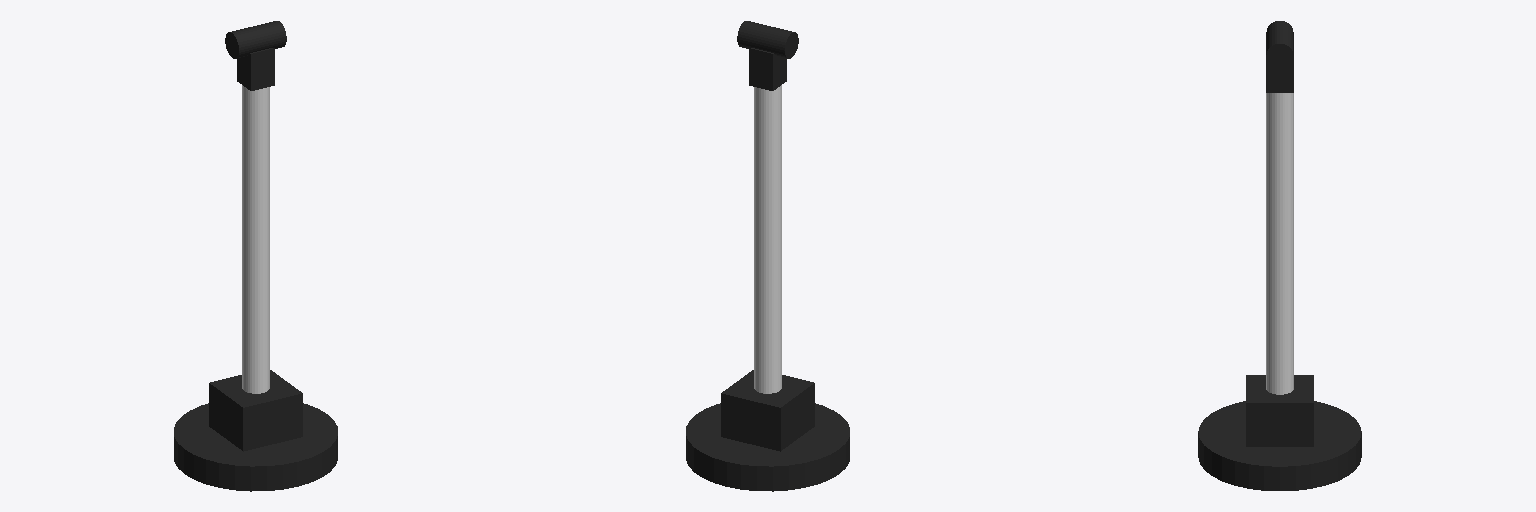
URDF robot description (kinect):
<?xml version="1.0" ?>
<!-- =================================================================================== -->
<!-- |    This document was autogenerated by xacro from human.xacro                    | -->
<!-- |    EDITING THIS FILE BY HAND IS NOT RECOMMENDED                                 | -->
<!-- =================================================================================== -->
<robot name="kinect" xmlns:xacro="http://www.ros.org/wiki/xacro">

  <material name="metal">
    <color rgba="0.9 0.9 0.9 1"/>
  </material>

  <material name="black_plastic">
    <color rgba="0.2 0.2 0.2 1"/>
  </material>

  <!-- Links: inertial,visual,collision -->
  <link name="base_link">
    <inertial>
      <origin nrpy="0 0 0" xyz="0 0 0"/>
      <mass value="5"/>
      <inertia ixx="5" ixy="0" ixz="0" iyy="5" iyz="0" izz="5"/>
    </inertial>

    <visual>
      <origin xyz="0 0 0.05"/>
      <geometry>
        <cylinder radius="0.3" length=".1"/>
      </geometry>
      <material name="black_plastic"/>
    </visual>
    <collision>
      <!-- origin is relative -->
      <origin xyz="0 0 0.05"/>
      <geometry>
        <cylinder radius="0.3" length=".1"/>
      </geometry>
    </collision>
  </link>

  <link name="base_box">
    <inertial>
      <origin nrpy="0 0 0" xyz="0 0 0"/>
      <mass value="5"/>
      <inertia ixx="5" ixy="0" ixz="0" iyy="5" iyz="0" izz="5"/>
    </inertial>

    <visual>
    	<origin xyz="0 0 0.05"/>
      <geometry>
        <box size="0.25 0.25 0.25"/>
      </geometry>
      <material name="black_plastic"/>
    </visual>
    <collision>
      <!-- origin is relative -->
      <origin xyz="0 0 0.05"/>
      <geometry>
        <box size="0.25 0.25 0.25"/>
      </geometry>
    </collision>
  </link>


  <joint name="base_base_joint" type="fixed">
    <origin rpy="0 0 0" xyz="0 0 0.1"/>
    <child link="base_box"/>
    <parent link="base_link"/>
  </joint>

  <link name="bot_rod">
    <inertial>
      <origin nrpy="0 0 0" xyz="0 0 0"/>
      <mass value="5"/>
      <inertia ixx="5" ixy="0" ixz="0" iyy="5" iyz="0" izz="5"/>
    </inertial>

    <visual>
      <geometry>
        <cylinder radius="0.05" length="1"/>
      </geometry>
      <material name="metal"/>
    </visual>
    <collision>
      <!-- origin is relative -->
      <origin xyz="0 0 0"/>
      <geometry>
        <cylinder radius="0.05" length="1"/>
      </geometry>
    </collision>
  </link>


  <joint name="base_rod" type="fixed">
    <origin rpy="0 0 0" xyz="0 0 0.62"/>
    <child link="bot_rod"/>
    <parent link="base_box"/>
  </joint>

  <link name="top_rod">
    <inertial>
      <origin nrpy="0 0 0" xyz="0 0 0"/>
      <mass value="5"/>
      <inertia ixx="5" ixy="0" ixz="0" iyy="5" iyz="0" izz="5"/>
    </inertial>

    <visual>
      <geometry>
        <cylinder radius="0.05" length="1"/>
      </geometry>
      <material name="metal"/>
    </visual>
    <collision>
      <!-- origin is relative -->
      <origin xyz="0 0 0"/>
      <geometry>
        <cylinder radius="0.05" length="1"/>
      </geometry>
    </collision>
  </link>

  <joint name="rod" type="prismatic">
    <origin rpy="0 0 0" xyz="0 0 0.3"/>
    <axis xyz="0 0 1"/>
    <limit effort="1000.0" lower="-0.7" upper="0.7" velocity="0.5"/>
    <child link="top_rod"/>
    <parent link="bot_rod"/>
  </joint>


  <link name="top_box">
    <inertial>
      <origin nrpy="0 0 0" xyz="0 0 0"/>
      <mass value="5"/>
      <inertia ixx="5" ixy="0" ixz="0" iyy="5" iyz="0" izz="5"/>
    </inertial>

    <visual>
      <geometry>
        <box size="0.10 0.10 0.15"/>
      </geometry>
      <material name="black_plastic"/>
    </visual>
    <collision>
      <!-- origin is relative -->
      <origin xyz="0 0 0"/>
      <geometry>
        <box size="0.10 0.10 0.15"/>
      </geometry>
    </collision>
  </link>


  <joint name="top_box_rod_joint" type="fixed">
    <origin rpy="0 0 0" xyz="0 0 0.55"/>
    <child link="top_box"/>
    <parent link="top_rod"/>
  </joint>

  <link name="tilt_link">
    <inertial>
      <origin nrpy="0 0 0" xyz="0 0 0"/>
      <mass value="5"/>
      <inertia ixx="5" ixy="0" ixz="0" iyy="5" iyz="0" izz="5"/>
    </inertial>

    <visual>
      <geometry>
        <cylinder radius="0.05" length="0.2"/>
      </geometry>
      <material name="black_plastic"/>
    </visual>
    <collision>
      <!-- origin is relative -->
      <origin xyz="0 0 0"/>
      <geometry>
          <cylinder radius="0.05" length="0.2"/>
      </geometry>
    </collision>
  </link>


  <joint name="tilt_joint" type="revolute">
    <origin rpy="0 1.57079632679 0" xyz="0 0 0.10"/>
    <child link="tilt_link"/>
    <parent link="top_box"/>
    <limit lower="-3.1416" upper="3.1416" effort="10" velocity="3"/>
    <axis xyz="0 0 1"/>
  </joint>


   <joint name="tilt_camera_joint" type="fixed">
    <origin rpy="0 1.57079632679 0" xyz="0 0 0"/>
    <child link="kinect2_link"/>
    <parent link="tilt_link"/>
  </joint>


  <link name="kinect2_link">
    <inertial>
      <origin nrpy="0 0 0" xyz="0 0 0"/>
      <mass value="5"/>
      <inertia ixx="5" ixy="0" ixz="0" iyy="5" iyz="0" izz="5"/>
    </inertial>
  </link>

</robot>

--- Facts derived from the render (not from the file) ---
Views: 3 orthographic renders of the robot side by side, from view 1: azimuth 30°, elevation 25°; view 2: azimuth 150°, elevation 25°; view 3: azimuth 270°, elevation 25°.
Robot: kinect — 7 links, 6 joints (1 revolute, 1 prismatic, 4 fixed); root link base_link; default pose: every joint at zero.
Links seen in each view (by area): view 1: base_link, base_box, top_rod, bot_rod, tilt_link, top_box; view 2: base_link, base_box, top_rod, bot_rod, tilt_link, top_box; view 3: base_link, top_rod, base_box, bot_rod, tilt_link, top_box.
Boxes of the visible links, left/top/right/bottom form: base_link: left=174, top=403, right=337, bottom=491; base_box: left=209, top=370, right=302, bottom=451; top_rod: left=242, top=85, right=269, bottom=332; bot_rod: left=242, top=153, right=269, bottom=393; tilt_link: left=225, top=21, right=286, bottom=58; top_box: left=237, top=48, right=274, bottom=90; base_link: left=686, top=403, right=849, bottom=491; base_box: left=721, top=370, right=814, bottom=451; top_rod: left=754, top=85, right=781, bottom=332; bot_rod: left=754, top=153, right=781, bottom=393; tilt_link: left=737, top=21, right=798, bottom=58; top_box: left=749, top=48, right=786, bottom=90; base_link: left=1198, top=401, right=1361, bottom=490; top_rod: left=1266, top=93, right=1293, bottom=333; base_box: left=1246, top=375, right=1313, bottom=446; bot_rod: left=1266, top=156, right=1293, bottom=394; tilt_link: left=1266, top=21, right=1293, bottom=67; top_box: left=1266, top=57, right=1293, bottom=92.
Size in the robot's own frame: 0.6 by 0.6 by 1.72 metres.
Geometry: primitives only (box / cylinder / sphere), no mesh files.